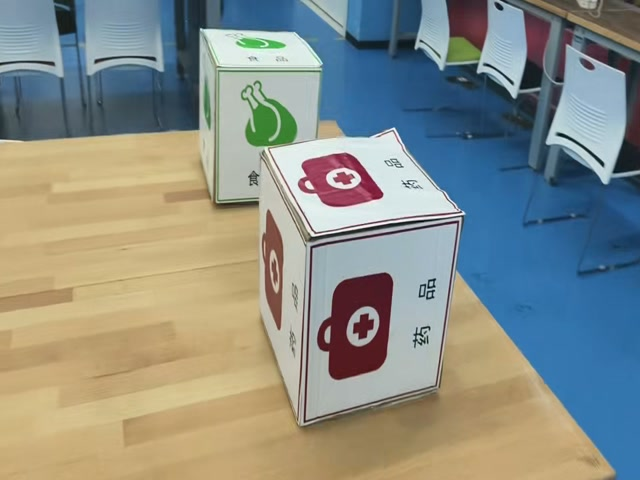Cube_food: (201, 31, 324, 75)
Cube_medicine: (263, 132, 473, 245)
